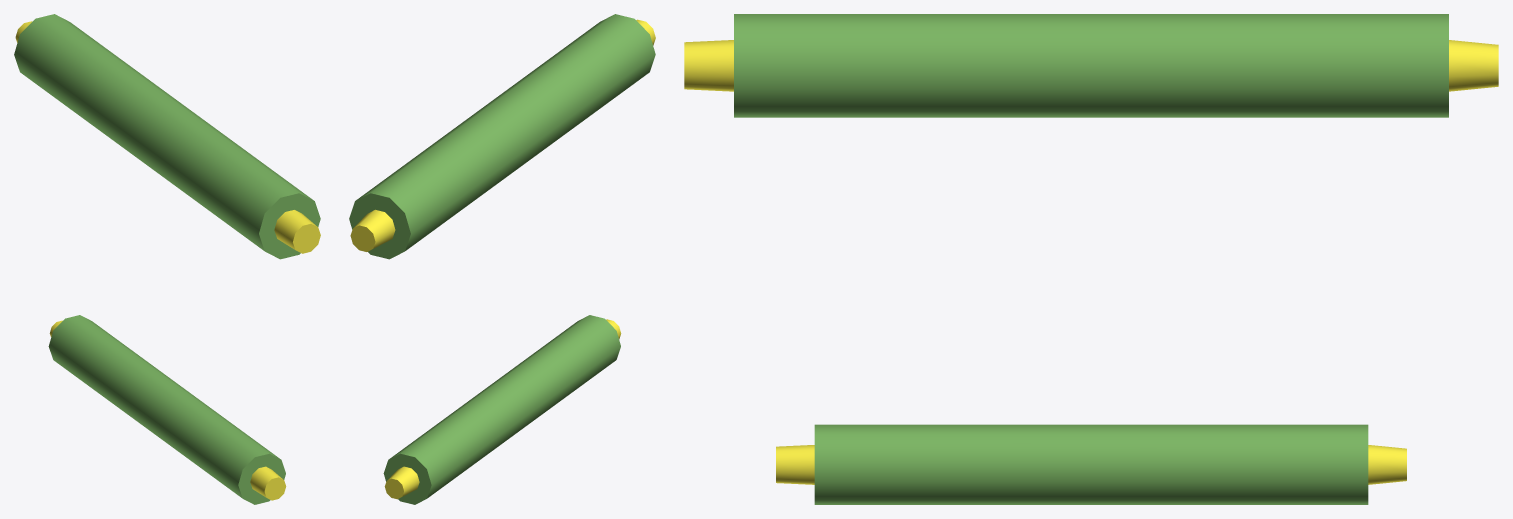
The model's file is wire.fbx.
The picture shows the model from 3 angles, left to right: view 1: azimuth 30°, elevation 25°; view 2: azimuth 150°, elevation 25°; view 3: azimuth 270°, elevation 25°; orthographic projection. The views are drawn at different scales.
Visible parts, largest first — view 1: wire; view 2: wire; view 3: wire.
Boxes of the visible parts, x1,y1,x2,y2 form: wire: [14, 14, 320, 504]; wire: [349, 14, 655, 504]; wire: [684, 14, 1498, 504].
Size of the model in its own units: 9.54 by 48.27 by 74.41.
1 material, 1 textured.
